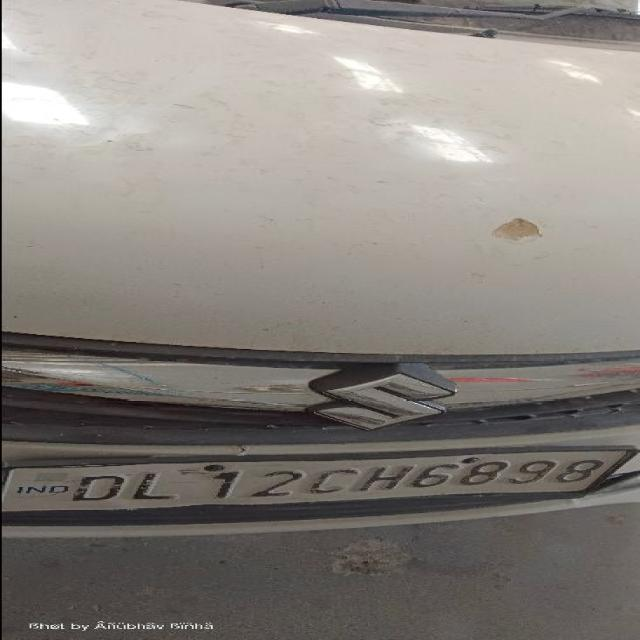license_plate: (4, 0, 636, 539), (1, 443, 636, 537)
